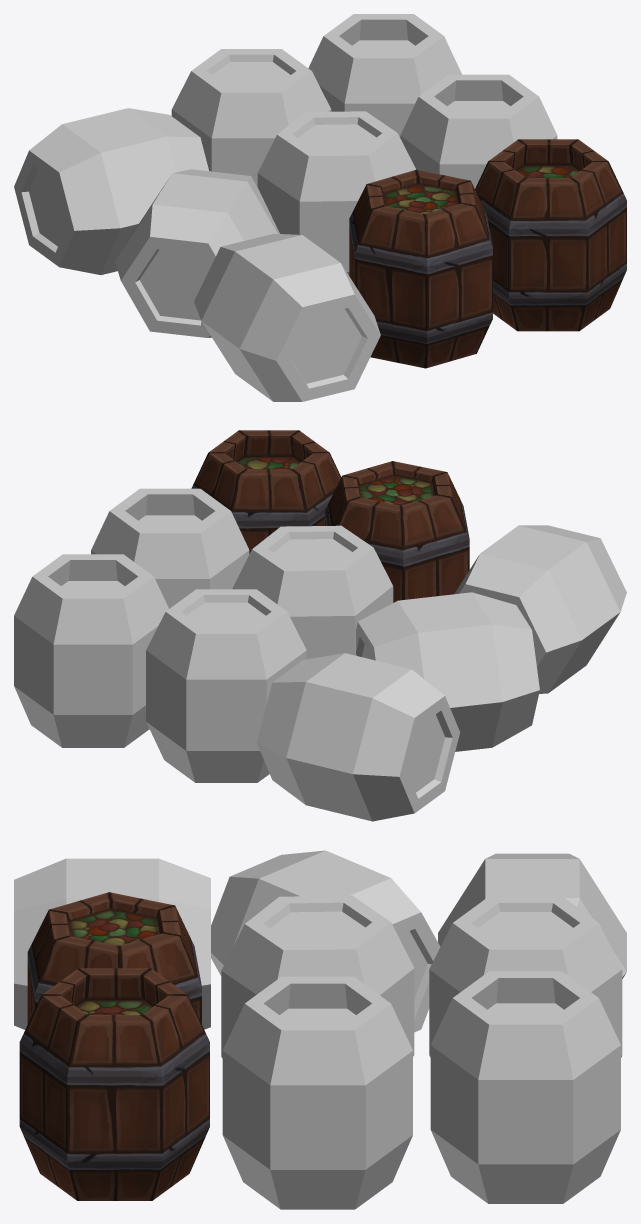
File: BarrelExport1.fbx
3 renders of one model, top to bottom at view 1: azimuth 30°, elevation 25°; view 2: azimuth 150°, elevation 25°; view 3: azimuth 270°, elevation 25°, orthographic. The views are drawn at different scales.
Parts seen in each view (by area): view 1: Cylinder.005, Cylinder.003, Cylinder.008, Cylinder.000, Cylinder.007, Cylinder.004, Cylinder.001, Cylinder.002, Cylinder.006; view 2: Cylinder.000, Cylinder.002, Cylinder.001, Cylinder.007, Cylinder.008, Cylinder.003, Cylinder.004, Cylinder.006, Cylinder.005; view 3: Cylinder.006, Cylinder.005, Cylinder.002, Cylinder.004, Cylinder.001, Cylinder.003, Cylinder.008, Cylinder.007, Cylinder.000.
Boxes of the visible parts, x1,y1,x2,y2 form: Cylinder.005: (475,139,626,331); Cylinder.003: (349,169,492,368); Cylinder.008: (194,233,380,401); Cylinder.000: (14,108,208,274); Cylinder.007: (115,169,279,337); Cylinder.004: (257,111,415,275); Cylinder.001: (171,49,331,186); Cylinder.002: (308,14,461,137); Cylinder.006: (400,74,557,188); Cylinder.000: (257,653,460,821); Cylinder.002: (14,554,168,747); Cylinder.001: (146,589,306,782); Cylinder.007: (356,592,539,751); Cylinder.008: (454,525,626,693); Cylinder.003: (325,461,469,602); Cylinder.004: (232,525,393,659); Cylinder.006: (91,488,249,608); Cylinder.005: (191,430,341,553); Cylinder.006: (222,976,412,1209); Cylinder.005: (19,968,209,1200); Cylinder.002: (430,971,620,1203); Cylinder.004: (221,895,414,1058); Cylinder.001: (429,896,622,1057); Cylinder.003: (27,892,201,1024); Cylinder.008: (14,858,210,1029); Cylinder.007: (211,850,440,1032); Cylinder.000: (438,853,626,978).
Bounding box in the file's own units: 444 × 155 × 461.
4 materials, 1 textured.
